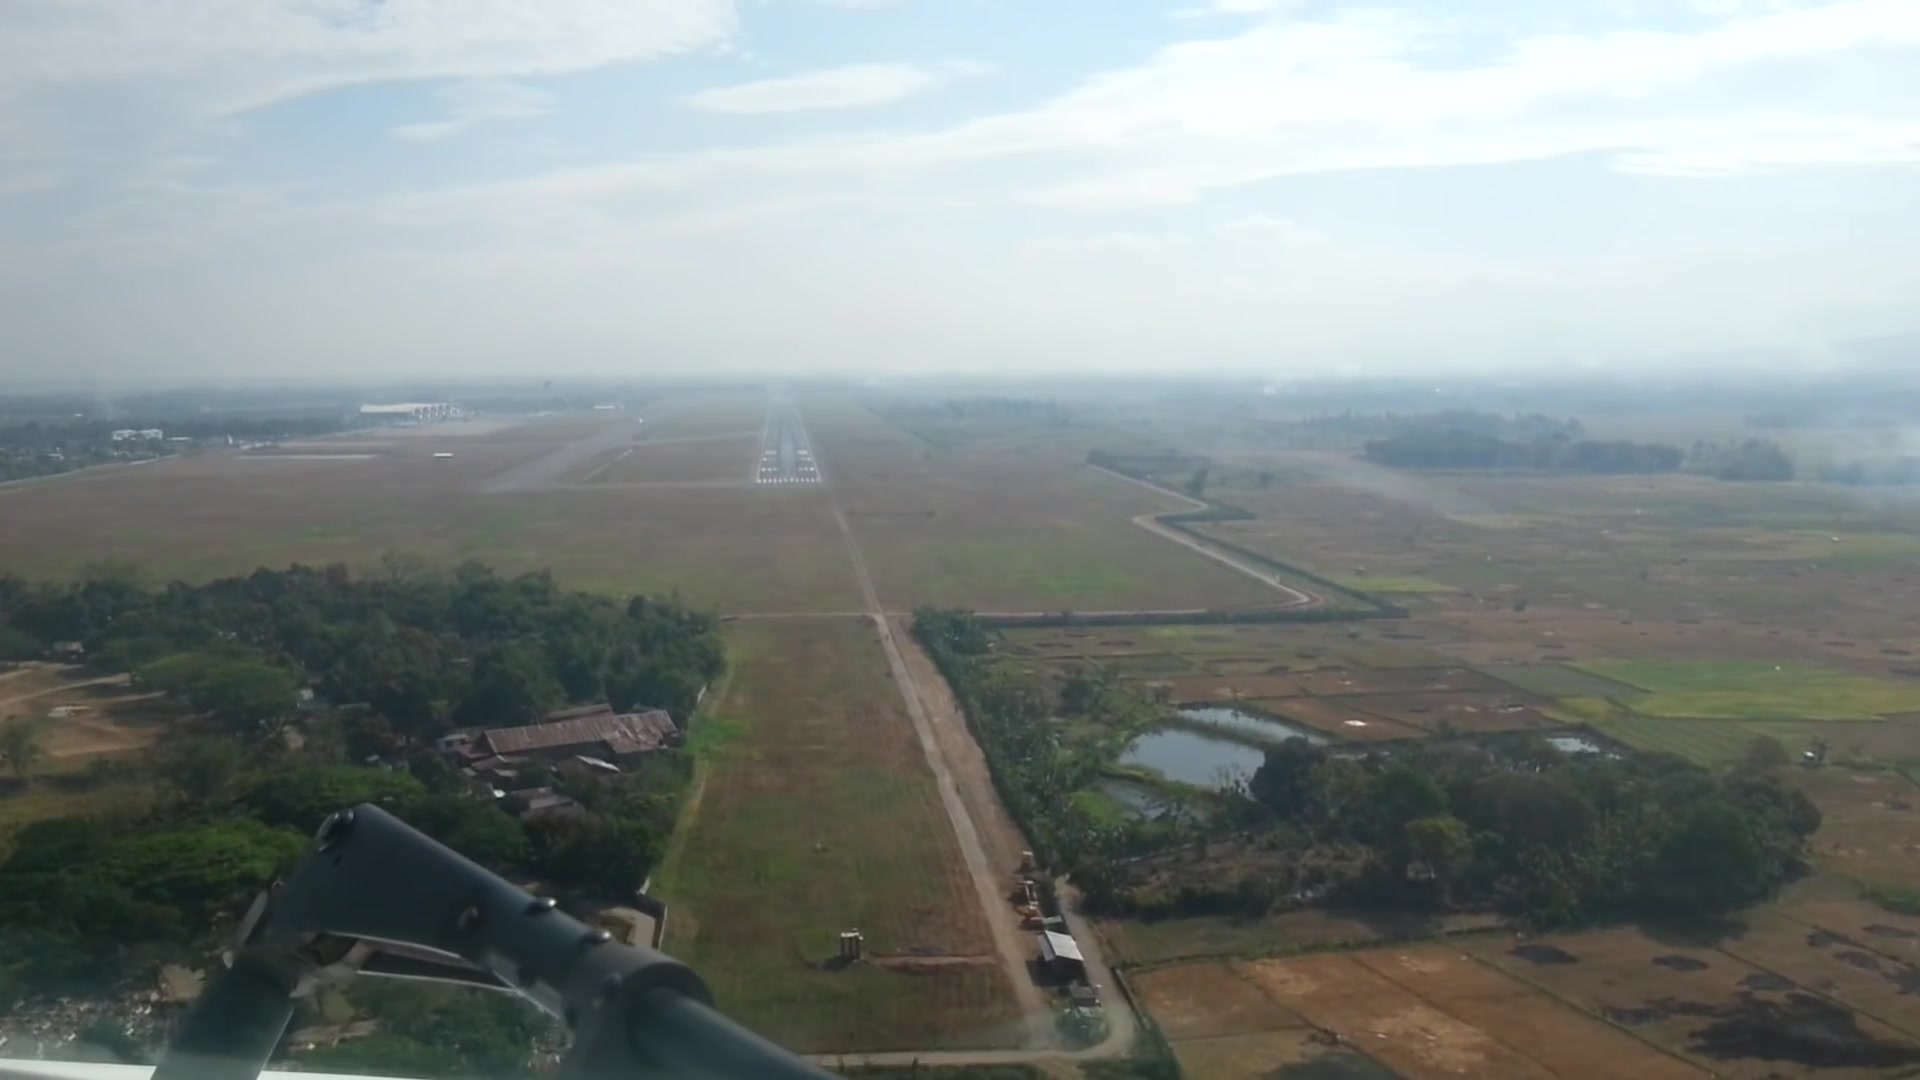entrance: (754, 473, 823, 483)
runway: (753, 393, 827, 487)
